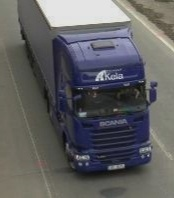truck: (17, 0, 158, 174)
